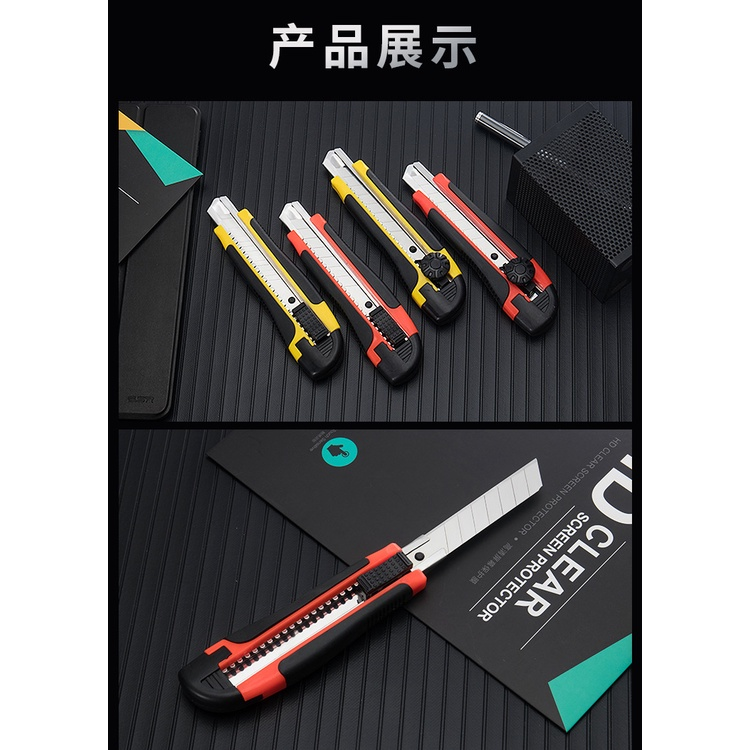cutter: (171, 454, 544, 719), (401, 159, 562, 340), (271, 197, 421, 391), (314, 147, 468, 332), (200, 195, 347, 386)
